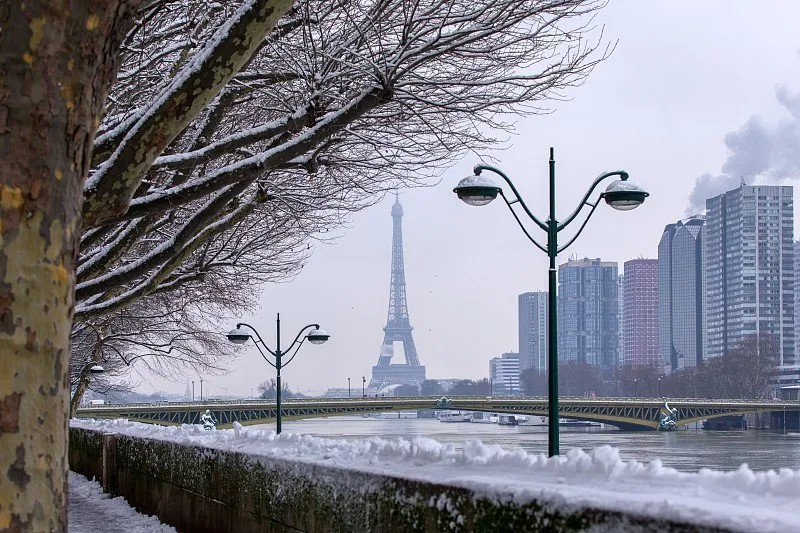Eiffel: (365, 182, 427, 399)
